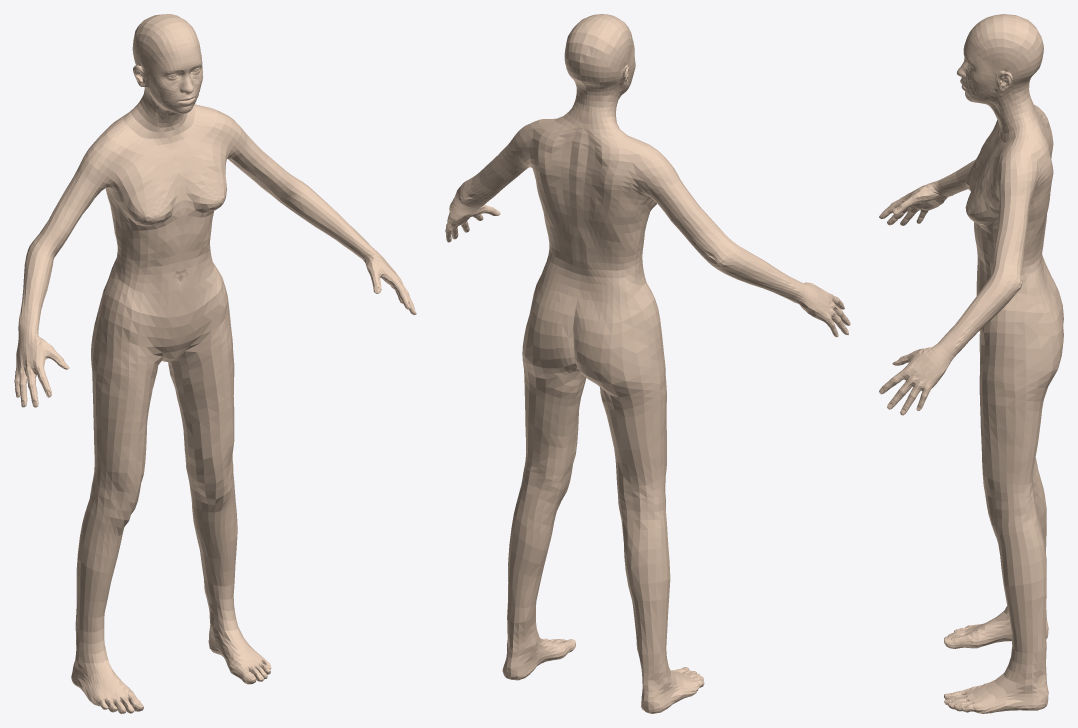
File: female-mature-lean-medium.glb
The picture shows the model from 3 angles, left to right: view 1: azimuth 30°, elevation 25°; view 2: azimuth 150°, elevation 25°; view 3: azimuth 270°, elevation 25°; orthographic projection.
Parts seen in each view (by area): view 1: world; view 2: world; view 3: world.
Part boxes in pixels (x1=…): world: x1=14, y1=14, x2=416, y2=713; world: x1=445, y1=14, x2=850, y2=713; world: x1=879, y1=14, x2=1063, y2=713.
Bounding box in the file's own units: 1.12 × 1.81 × 0.4604.
